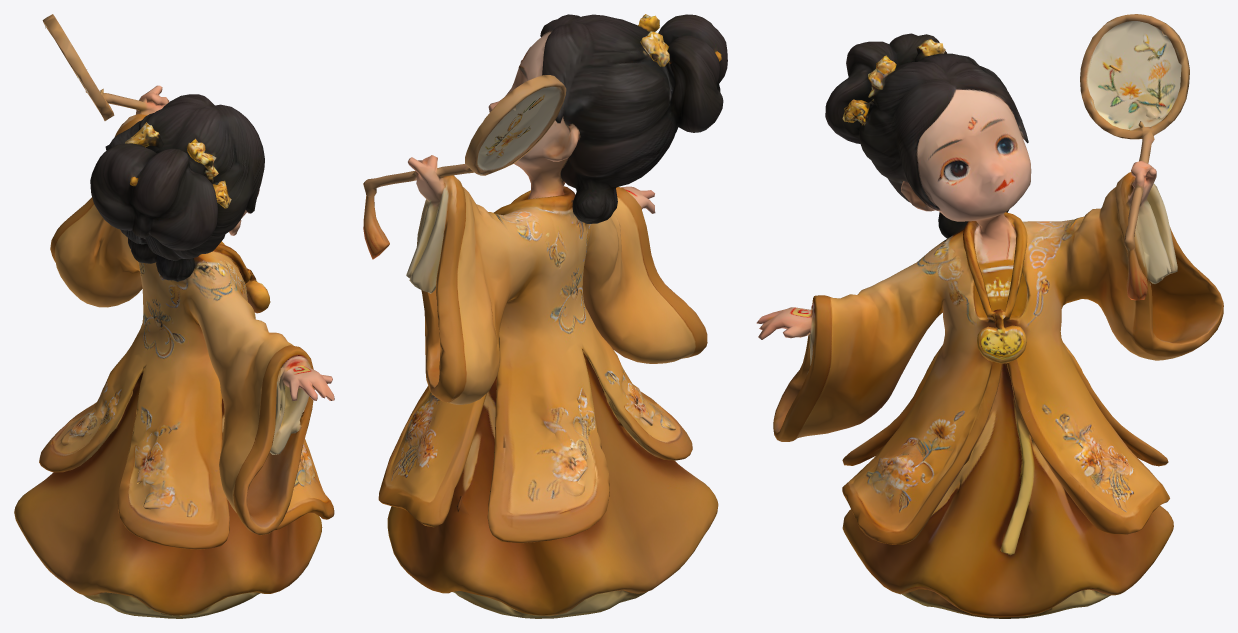
The model's file is baochai_fan.glb.
3 views of the same model, side by side, from view 1: azimuth 30°, elevation 25°; view 2: azimuth 150°, elevation 25°; view 3: azimuth 270°, elevation 25° (orthographic). The views are drawn at different scales.
Parts seen in each view (by area): view 1: tripo_node_6ce26883-1f91-438b-a6af-e831a8a2174e; view 2: tripo_node_6ce26883-1f91-438b-a6af-e831a8a2174e; view 3: tripo_node_6ce26883-1f91-438b-a6af-e831a8a2174e.
Boxes of the visible parts, x1,y1,x2,y2 form: tripo_node_6ce26883-1f91-438b-a6af-e831a8a2174e: (14,14,334,618); tripo_node_6ce26883-1f91-438b-a6af-e831a8a2174e: (363,14,727,618); tripo_node_6ce26883-1f91-438b-a6af-e831a8a2174e: (756,14,1223,618).
Bounding box in the file's own units: 0.4793 × 1 × 0.7997.
Materials: 1 (1 with a texture image).
